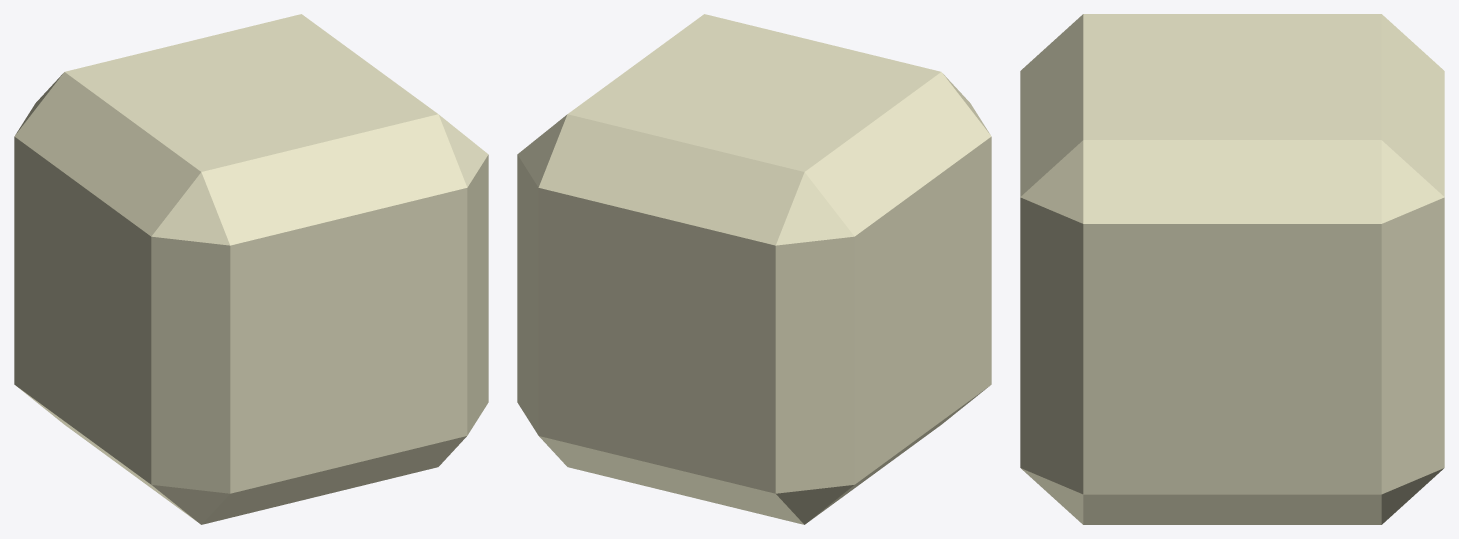
Rendered from beveled_cube_yellow.glb.
The picture shows the model from 3 angles, left to right: view 1: azimuth 30°, elevation 25°; view 2: azimuth 150°, elevation 25°; view 3: azimuth 270°, elevation 25°; orthographic projection. The views are drawn at different scales.
Visible parts, largest first — view 1: Cube; view 2: Cube; view 3: Cube.
Boxes of the visible parts, <box> form: Cube: <box>14,14,488,524</box>; Cube: <box>517,14,991,524</box>; Cube: <box>1020,14,1444,524</box>.
Size of the model in its own units: 0.6232 by 0.6232 by 0.6232.
